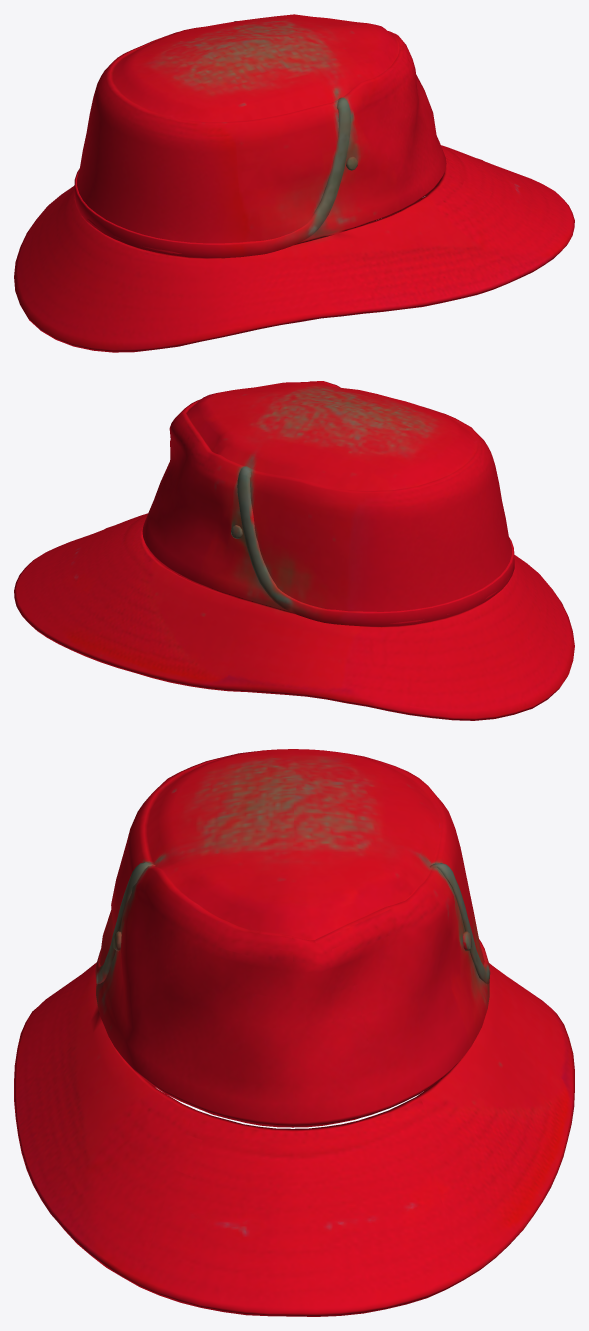
Rendered from chapeu_bucket_vermelho.glb.
The picture shows the model from 3 angles, top to bottom: view 1: azimuth 30°, elevation 25°; view 2: azimuth 150°, elevation 25°; view 3: azimuth 270°, elevation 25°; orthographic projection. The views are drawn at different scales.
Visible parts, largest first — view 1: chapeu_bucket_vermelho; view 2: chapeu_bucket_vermelho; view 3: chapeu_bucket_vermelho.
Boxes of the visible parts, left/top/right/bottom form: chapeu_bucket_vermelho: left=14, top=14, right=574, bottom=352; chapeu_bucket_vermelho: left=14, top=381, right=574, bottom=720; chapeu_bucket_vermelho: left=14, top=749, right=574, bottom=1316.
Bounding box in the file's own units: 0.4839 × 0.2139 × 0.3301.
1 material, 1 textured.
